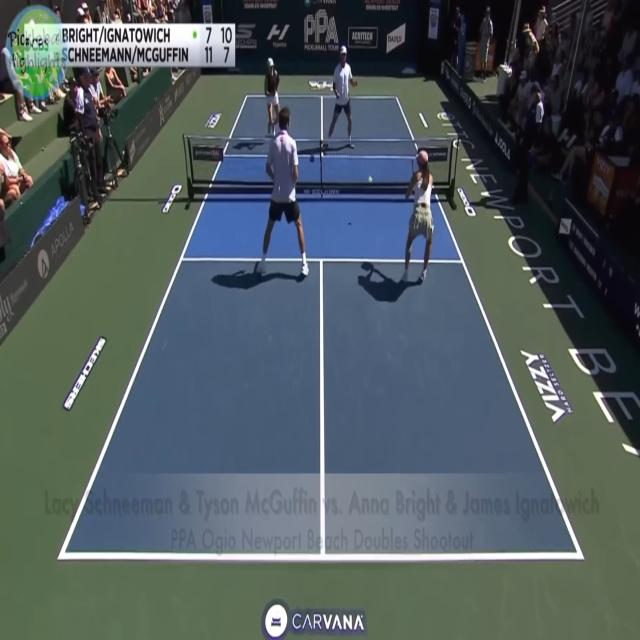ball: (364, 162, 382, 209)
